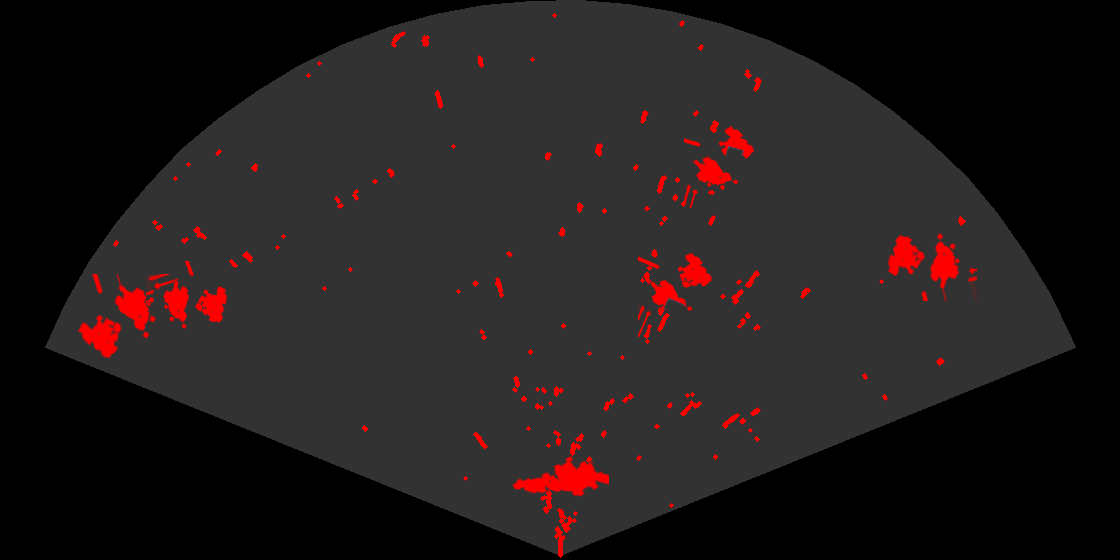cage: (76, 274, 178, 360), (638, 252, 713, 337), (886, 231, 977, 301), (684, 125, 756, 208), (146, 261, 229, 331)
frogman: (511, 454, 609, 498)
